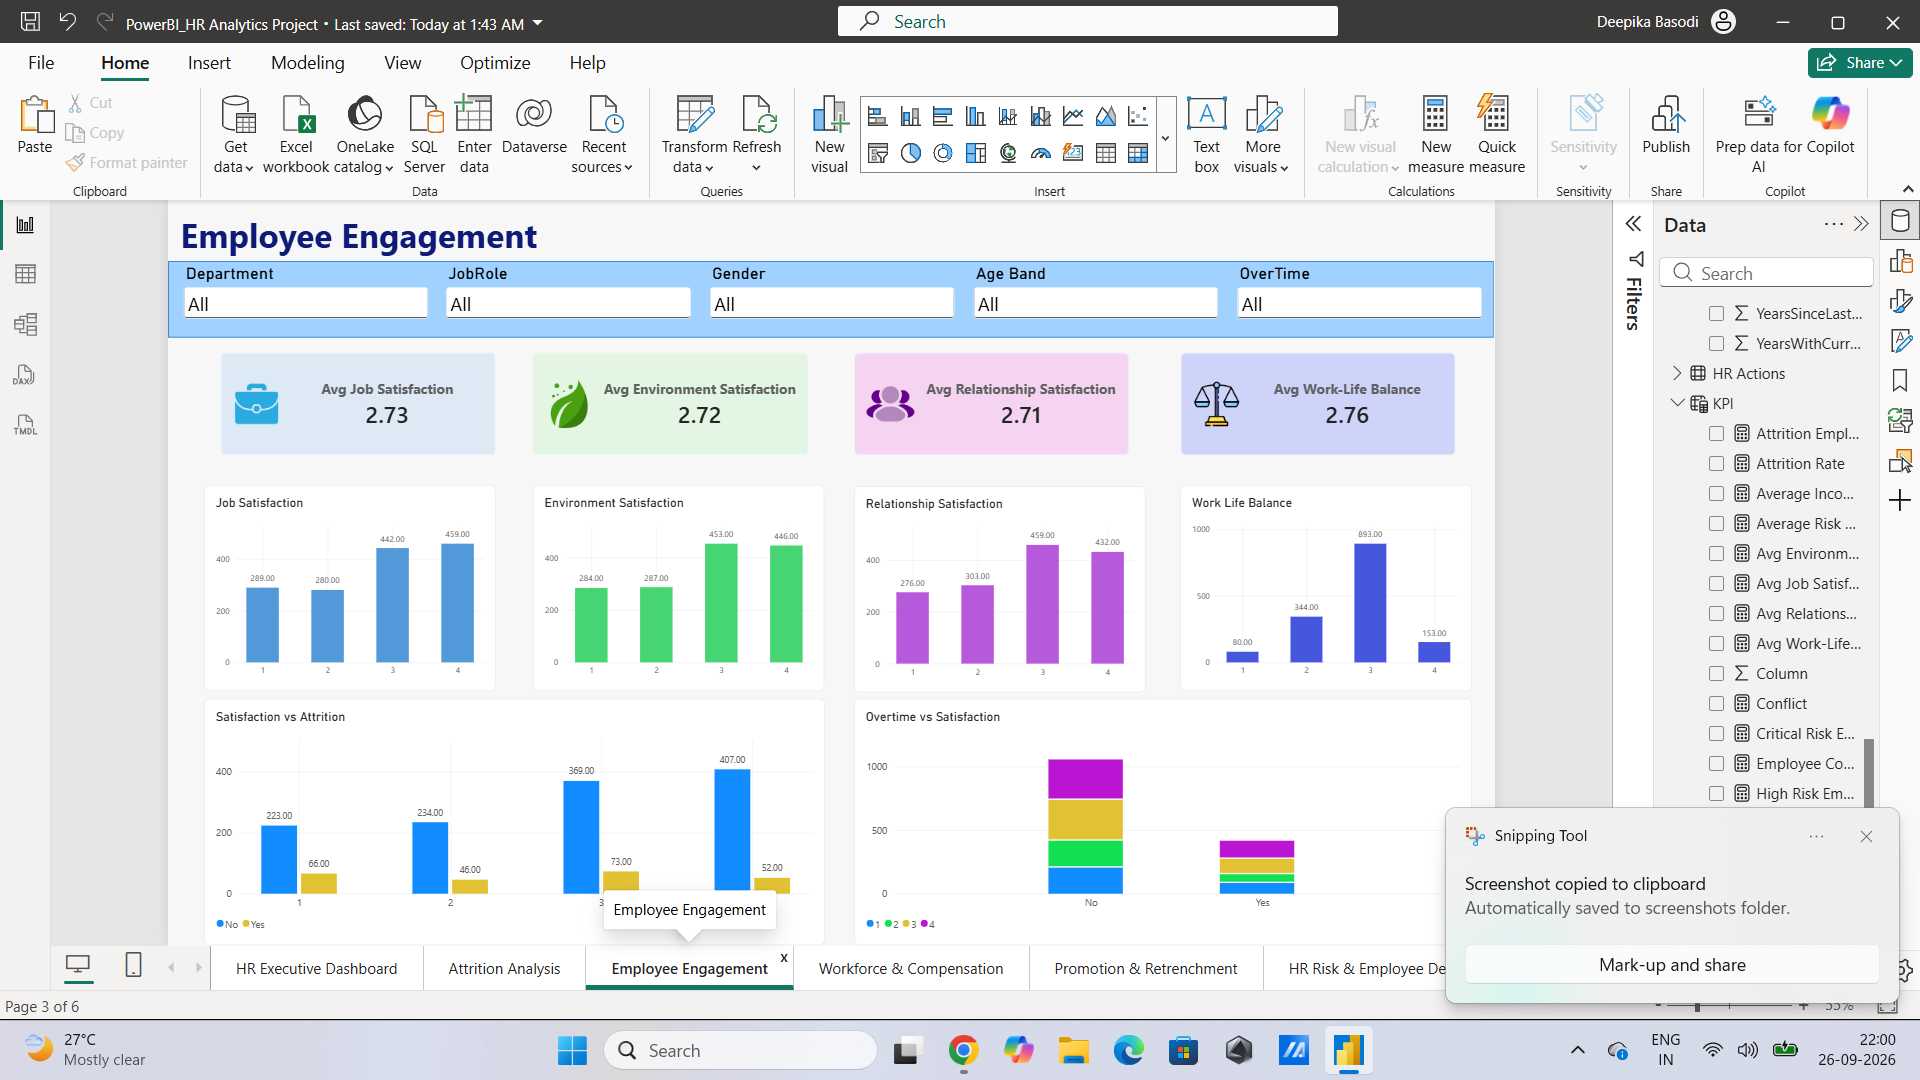

The page's visual inventory and layout, read from the dashboard file:
{"tool":"powerbi","page":{"name":"Employee Engagement","canvas":[1920,1080],"ordinal":2},"visuals":[{"type":"shape","box":[0,88.7,1919.6,110.4],"z":0},{"type":"textbox","box":[17.3,17.3,562.7,71.4],"z":1000},{"type":"slicer","fields":{"Values":["HR.Department"]},"box":[17.3,93.1,363.6,110.4],"z":2000},{"type":"slicer","fields":{"Values":["HR.JobRole"]},"box":[398.2,93.1,363.6,110.4],"z":3000},{"type":"slicer","fields":{"Values":["HR.Gender"]},"box":[779.1,93.1,363.6,110.4],"z":4000},{"type":"slicer","fields":{"Values":["HR.Age Band"]},"box":[1162.1,93.1,363.6,110.4],"z":5000},{"type":"slicer","fields":{"Values":["HR.OverTime"]},"box":[1543,93.1,363.6,110.4],"z":6000},{"type":"cardVisual","fields":{"Data":["KPI.Avg Job Satisfaction"]},"box":[75.7,220.7,398.2,149.3],"z":7000},{"type":"cardVisual","fields":{"Data":["KPI.Avg Environment Satisfaction"]},"box":[528.1,220.7,398.2,149.3],"z":8000},{"type":"cardVisual","fields":{"Data":["KPI.Avg Relationship Satisfaction"]},"box":[993.3,220.7,398.2,149.3],"z":9000},{"type":"cardVisual","fields":{"Data":["KPI.Avg Work-Life Balance"]},"box":[1465.1,220.7,398.2,149.3],"z":10000},{"type":"clusteredColumnChart","title":"Job Satisfaction","fields":{"Category":["HR.JobSatisfaction"],"Y":["KPI.Total Employees"]},"box":[52.5,412.6,421.7,298.6],"z":11000},{"type":"clusteredColumnChart","title":"Environment Satisfaction","fields":{"Category":["HR.EnvironmentSatisfaction"],"Y":["KPI.Total Employees"]},"box":[528.4,412.6,421.7,298.6],"z":12000},{"type":"clusteredColumnChart","title":"Relationship Satisfaction","fields":{"Category":["HR.RelationshipSatisfaction"],"Y":["KPI.Total Employees"]},"box":[993.5,414.4,421.7,298.6],"z":13000},{"type":"clusteredColumnChart","title":"Work Life Balance","fields":{"Category":["HR.WorkLifeBalance"],"Y":["KPI.Total Employees"]},"box":[1465.8,412.6,421.7,298.6],"z":14000},{"type":"clusteredColumnChart","title":"Satisfaction vs Attrition","fields":{"Category":["HR.JobSatisfaction"],"Series":["HR.Attrition"],"Y":["KPI.Total Employees"]},"box":[51.9,722.8,898.1,357.1],"z":15000},{"type":"columnChart","title":"Overtime vs Satisfaction","fields":{"Category":["HR.OverTime"],"Series":["HR.JobSatisfaction"],"Y":["KPI.Total Employees"]},"box":[993.3,722.8,893.8,357.1],"z":16000}]}

Visuals, with their boxes on the page's 1920x1080 design canvas (x1, y1, x2, y2). These are canvas units, not pixel positions in the 1920x1080 screenshot, which may show the page scaled, cropped or inside an application window:
shape: [left=0, top=89, right=1920, bottom=199]
textbox: [left=17, top=17, right=580, bottom=89]
slicer - HR.Department: [left=17, top=93, right=381, bottom=204]
slicer - HR.JobRole: [left=398, top=93, right=762, bottom=204]
slicer - HR.Gender: [left=779, top=93, right=1143, bottom=204]
slicer - HR.Age Band: [left=1162, top=93, right=1526, bottom=204]
slicer - HR.OverTime: [left=1543, top=93, right=1907, bottom=204]
cardVisual - KPI.Avg Job Satisfaction: [left=76, top=221, right=474, bottom=370]
cardVisual - KPI.Avg Environment Satisfaction: [left=528, top=221, right=926, bottom=370]
cardVisual - KPI.Avg Relationship Satisfaction: [left=993, top=221, right=1392, bottom=370]
cardVisual - KPI.Avg Work-Life Balance: [left=1465, top=221, right=1863, bottom=370]
"Job Satisfaction" clusteredColumnChart: [left=52, top=413, right=474, bottom=711]
"Environment Satisfaction" clusteredColumnChart: [left=528, top=413, right=950, bottom=711]
"Relationship Satisfaction" clusteredColumnChart: [left=994, top=414, right=1415, bottom=713]
"Work Life Balance" clusteredColumnChart: [left=1466, top=413, right=1888, bottom=711]
"Satisfaction vs Attrition" clusteredColumnChart: [left=52, top=723, right=950, bottom=1080]
"Overtime vs Satisfaction" columnChart: [left=993, top=723, right=1887, bottom=1080]
